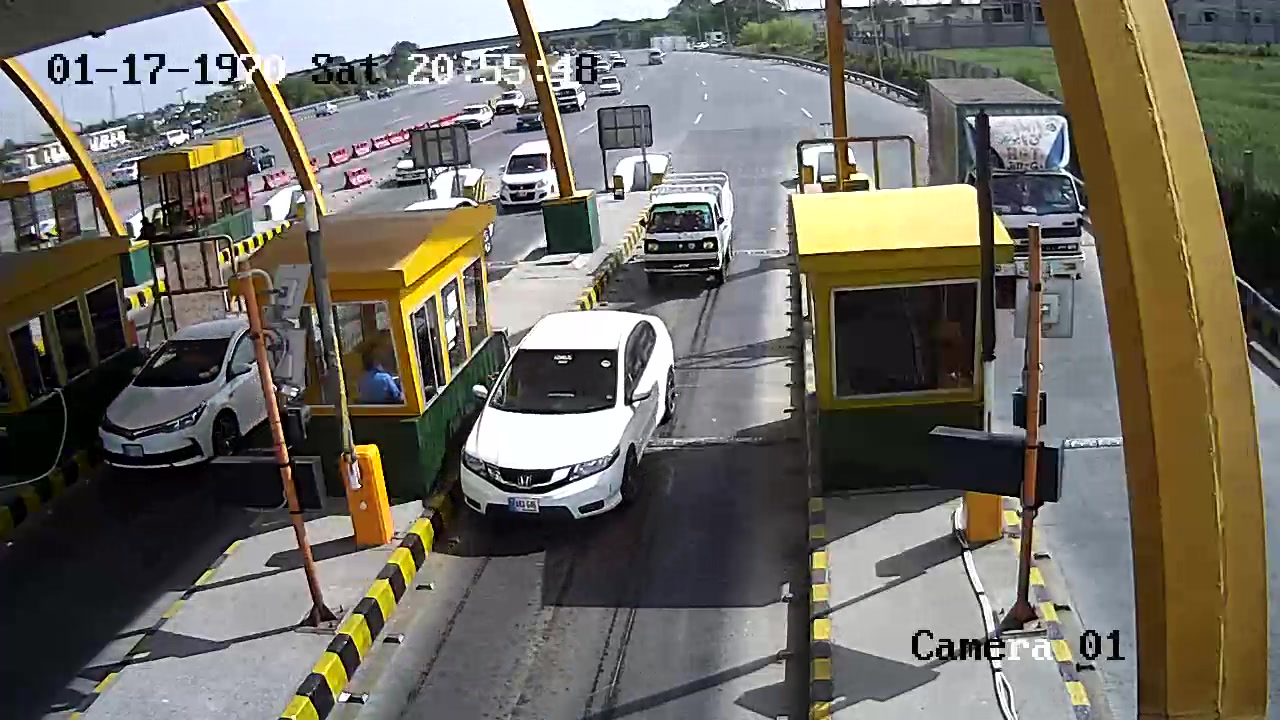F1: (453, 307, 690, 524), (636, 169, 739, 287)
